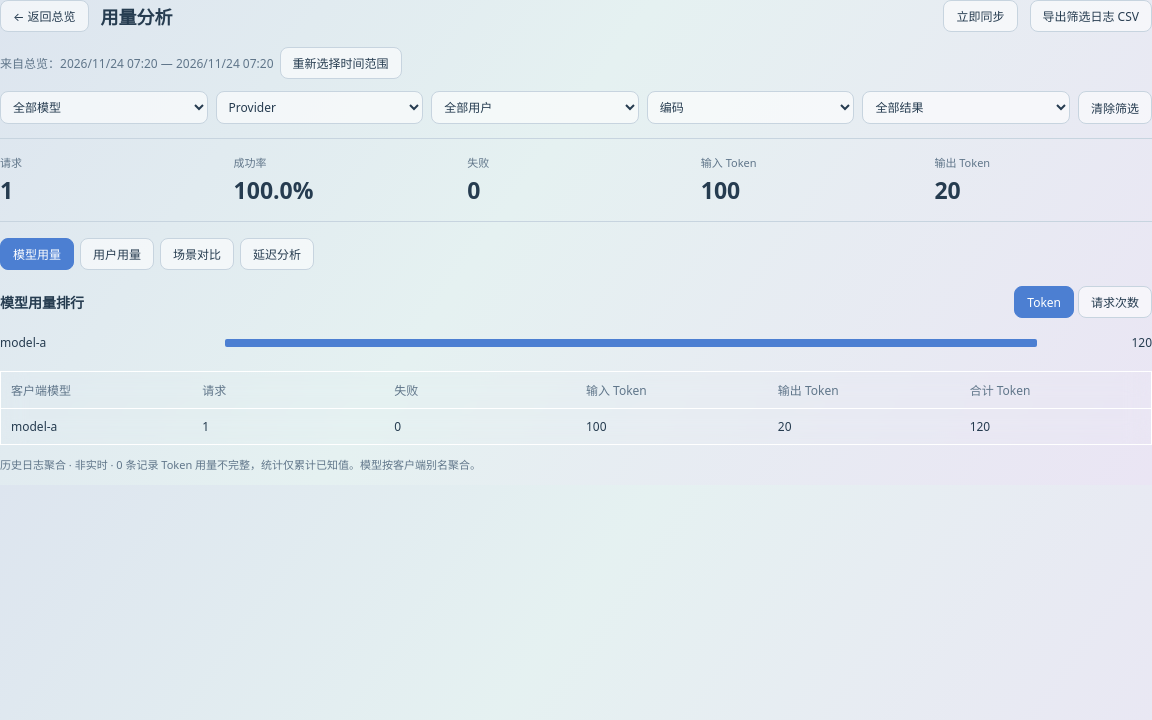
Test case: usage analysis › inherits exact time and object filters and supports combined model and outcome filters
The image size is (1152, 720).
Later steps or results of the test are not shown.
Expected: the dropdown named "分析供应商" shows "Provider", [216,91,423,124]
Expected: the table shows "model-a", [11,418,57,435]
Select "失败请求" in the dropdown named "分析结果": point(966, 108) [862,91,1070,124]
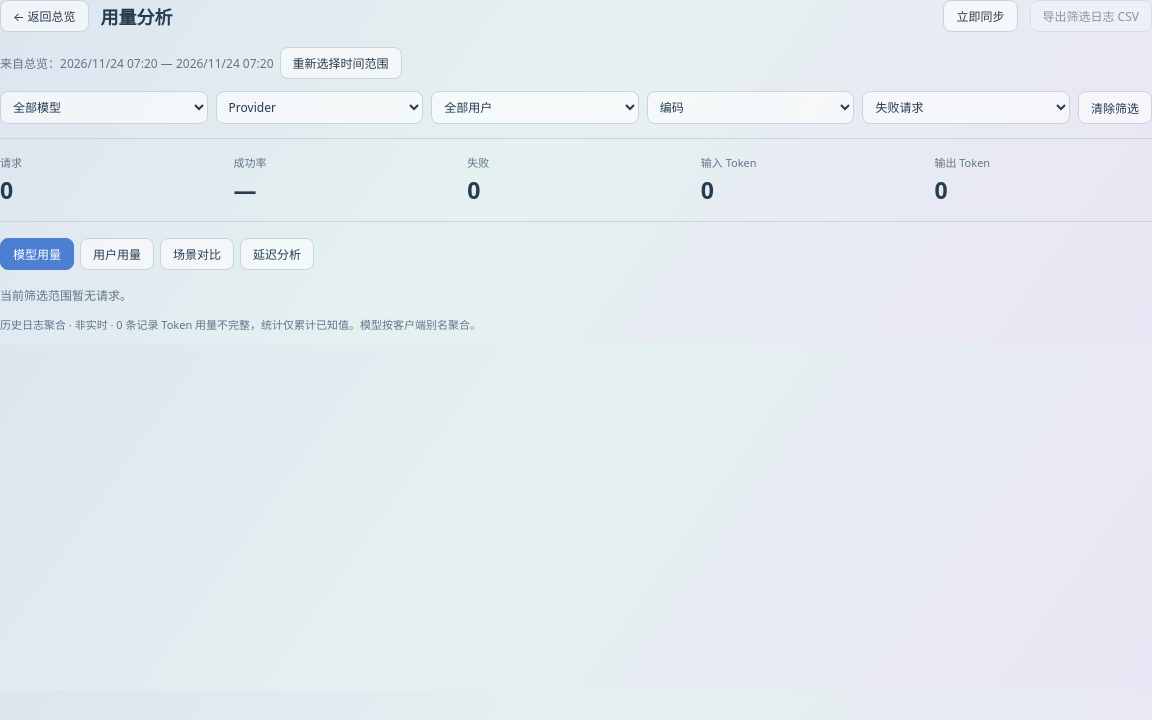
Expected: the text "当前筛选范围暂无请求。" is shown, [0,287,132,304]
Click the button "清除筛选": point(1115, 108) [1078,91,1151,124]
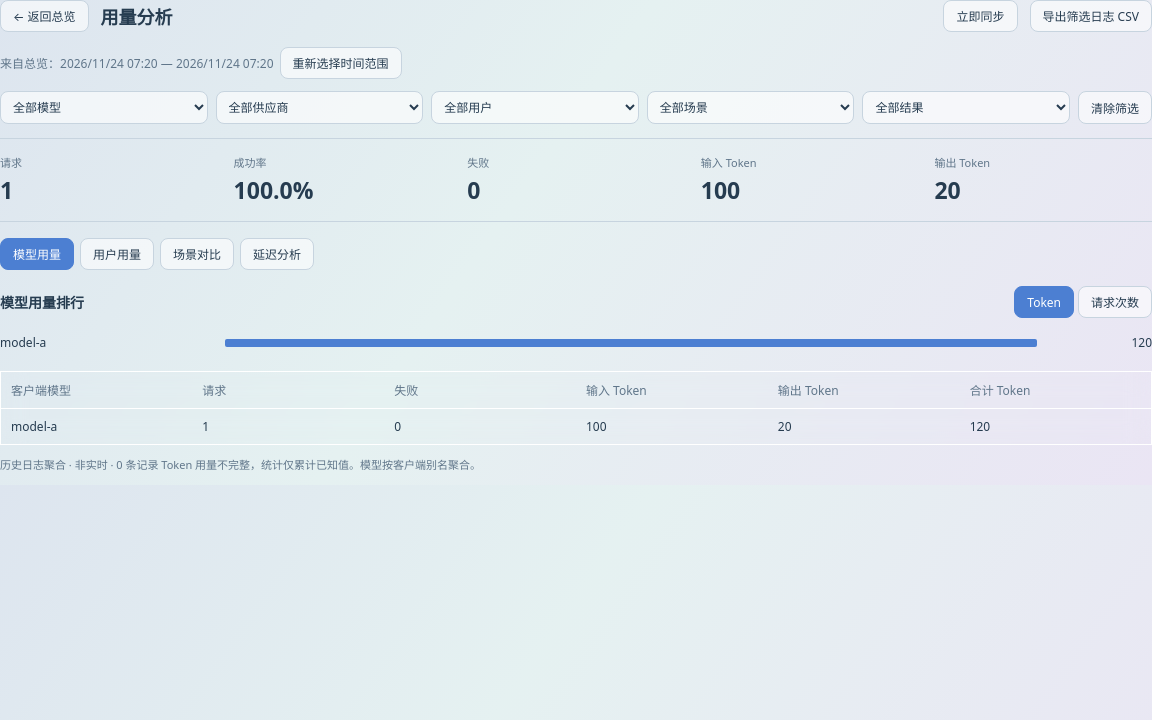
Click the button "用户用量": point(117, 254) [80,238,154,270]
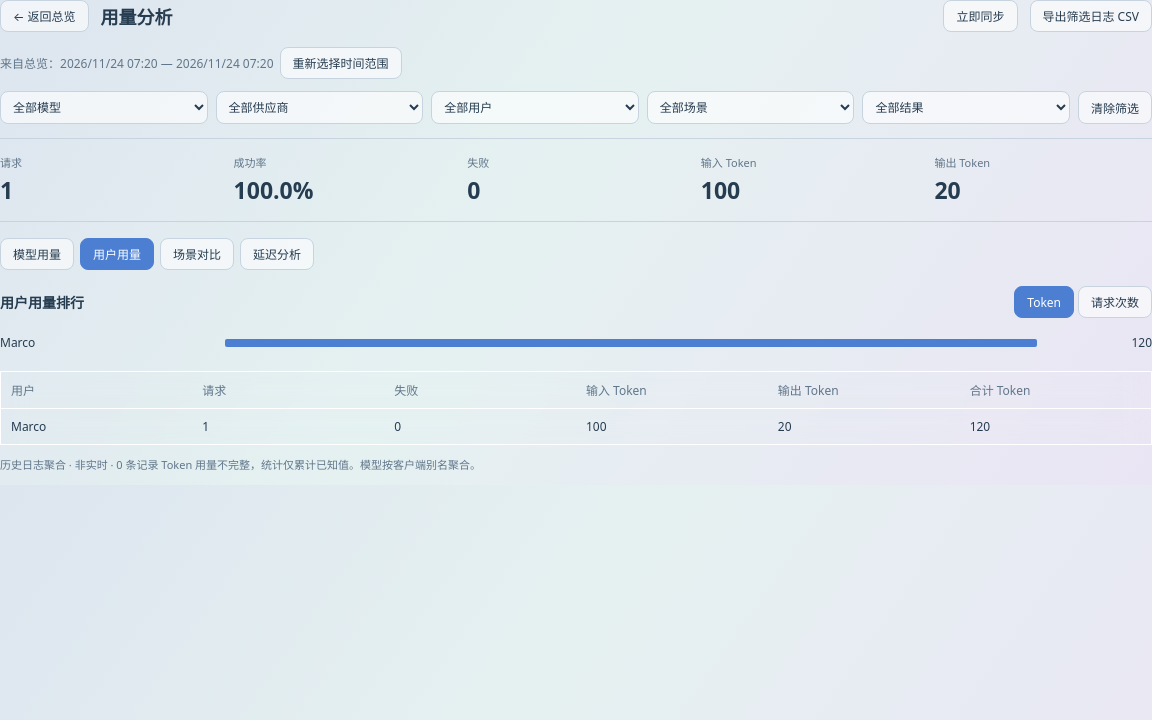
Expected: the table shows "Marco", [11,418,46,435]
Click the button "延迟分析": point(277, 254) [240,238,314,270]
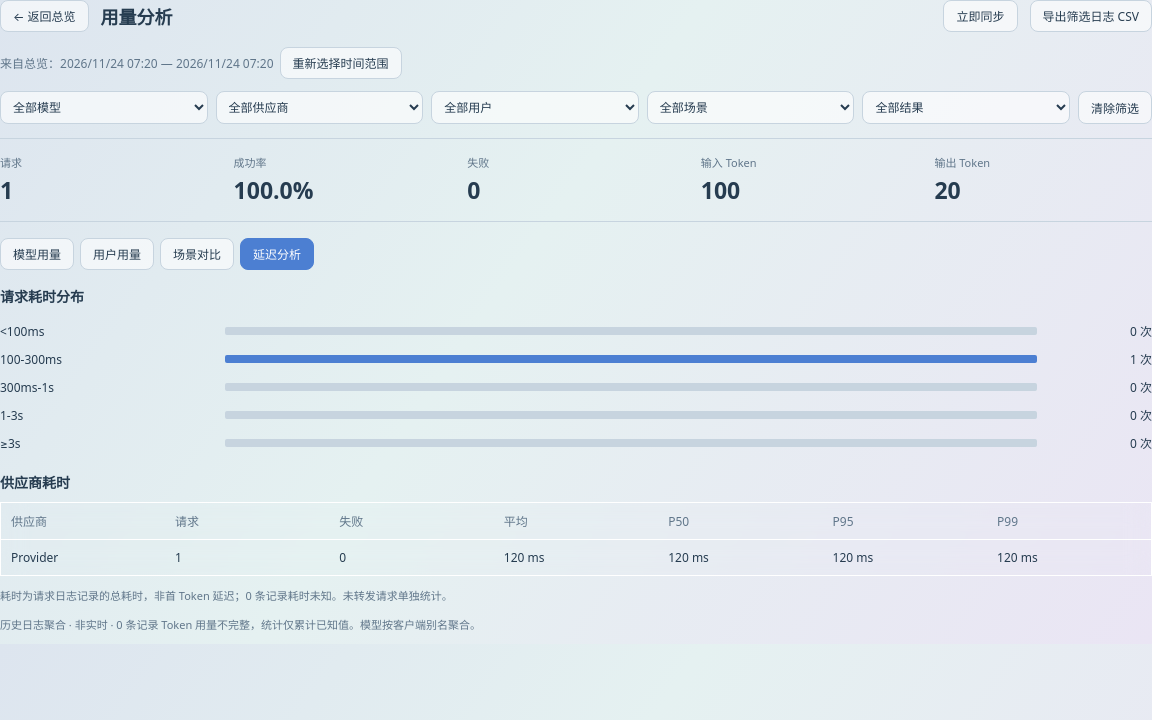
Expected: the column heading "P95" is shown, [823,502,987,540]
